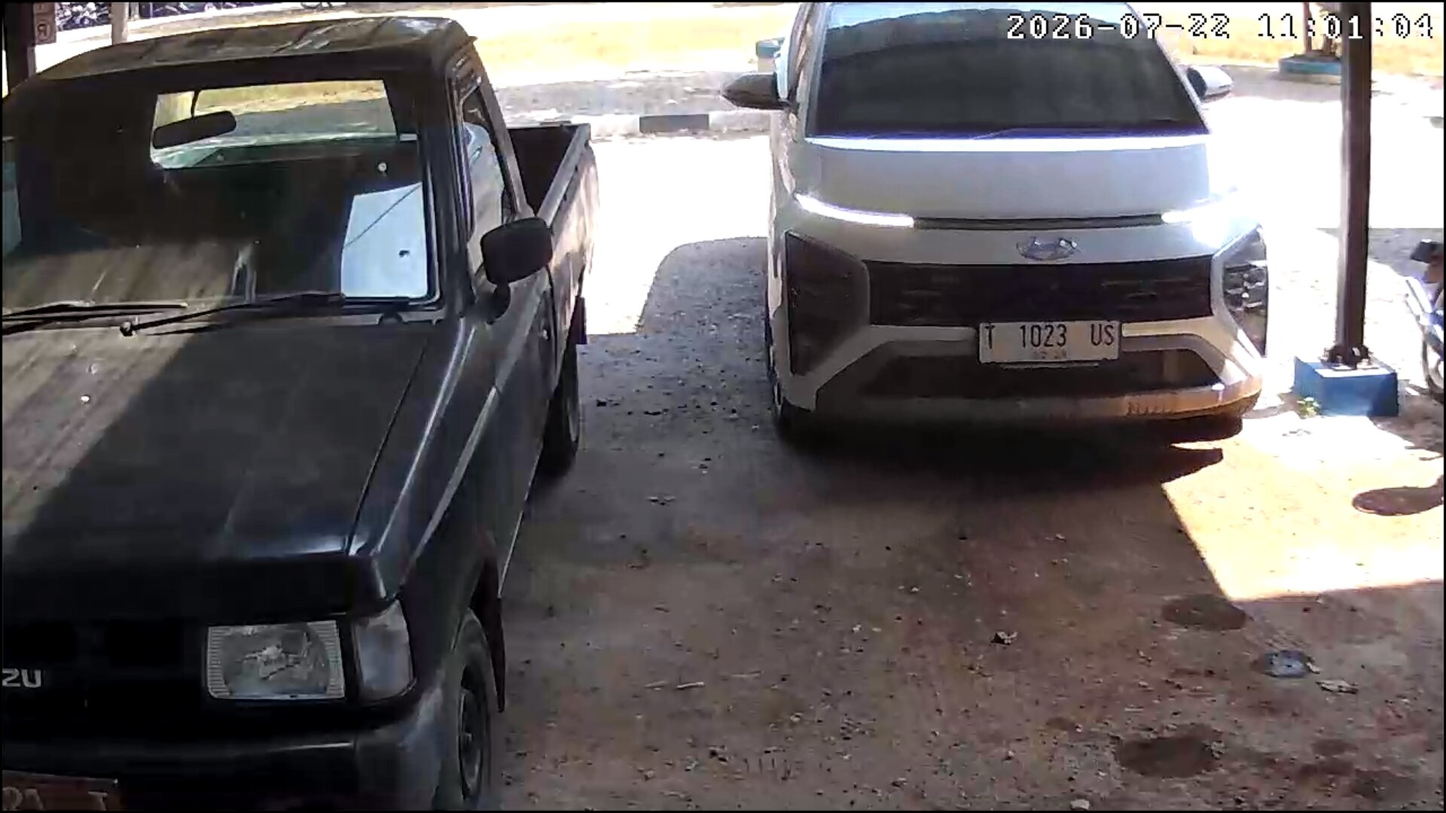plat nomor: (976, 320, 1122, 365)
